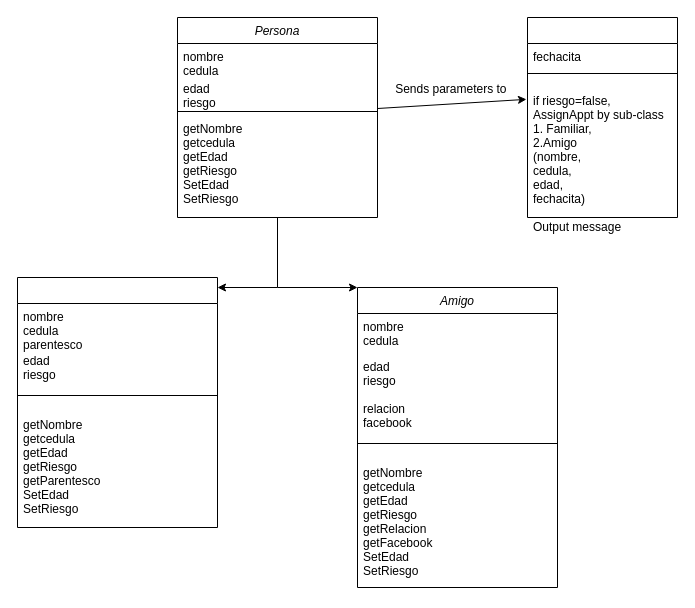
The diagram is 695 pixels wide and 608 high, and some of its shapes have lost their labels. The box of each missing label's shape, as (x1, y1, x2, y2) in pixels:
Familiar: (16, 276, 218, 528)
Vacunacion: (526, 16, 678, 218)
